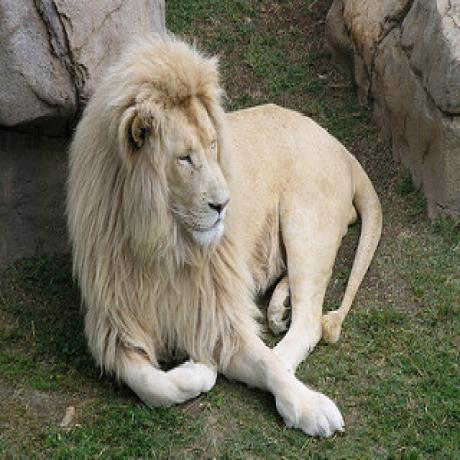Lion: (66, 31, 380, 439)
